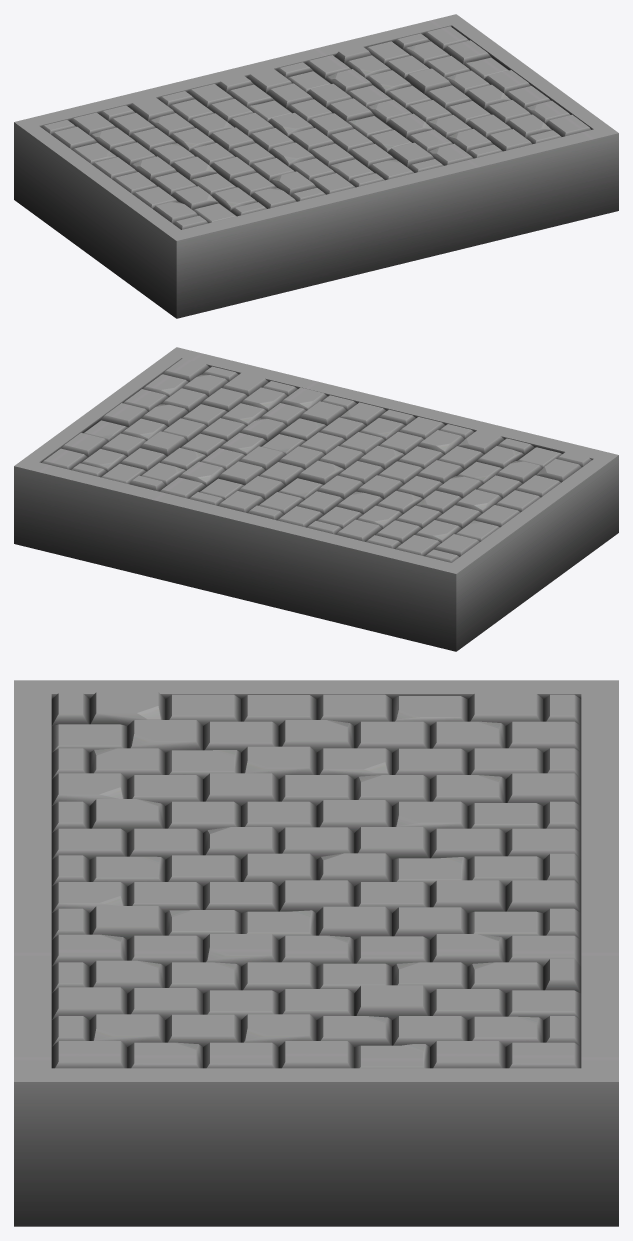
3 views of the same model, one above another, from view 1: azimuth 30°, elevation 25°; view 2: azimuth 150°, elevation 25°; view 3: azimuth 270°, elevation 25° (orthographic). The views are drawn at different scales.
Parts seen in each view (by area): view 1: Street; view 2: Street; view 3: Street.
Boxes of the visible parts, left/top/right/bottom form: Street: left=14, top=14, right=618, bottom=318; Street: left=14, top=347, right=618, bottom=651; Street: left=14, top=680, right=618, bottom=1226.
Bounding box in the file's own units: 1403 × 245 × 893.
1 material, 1 textured.
